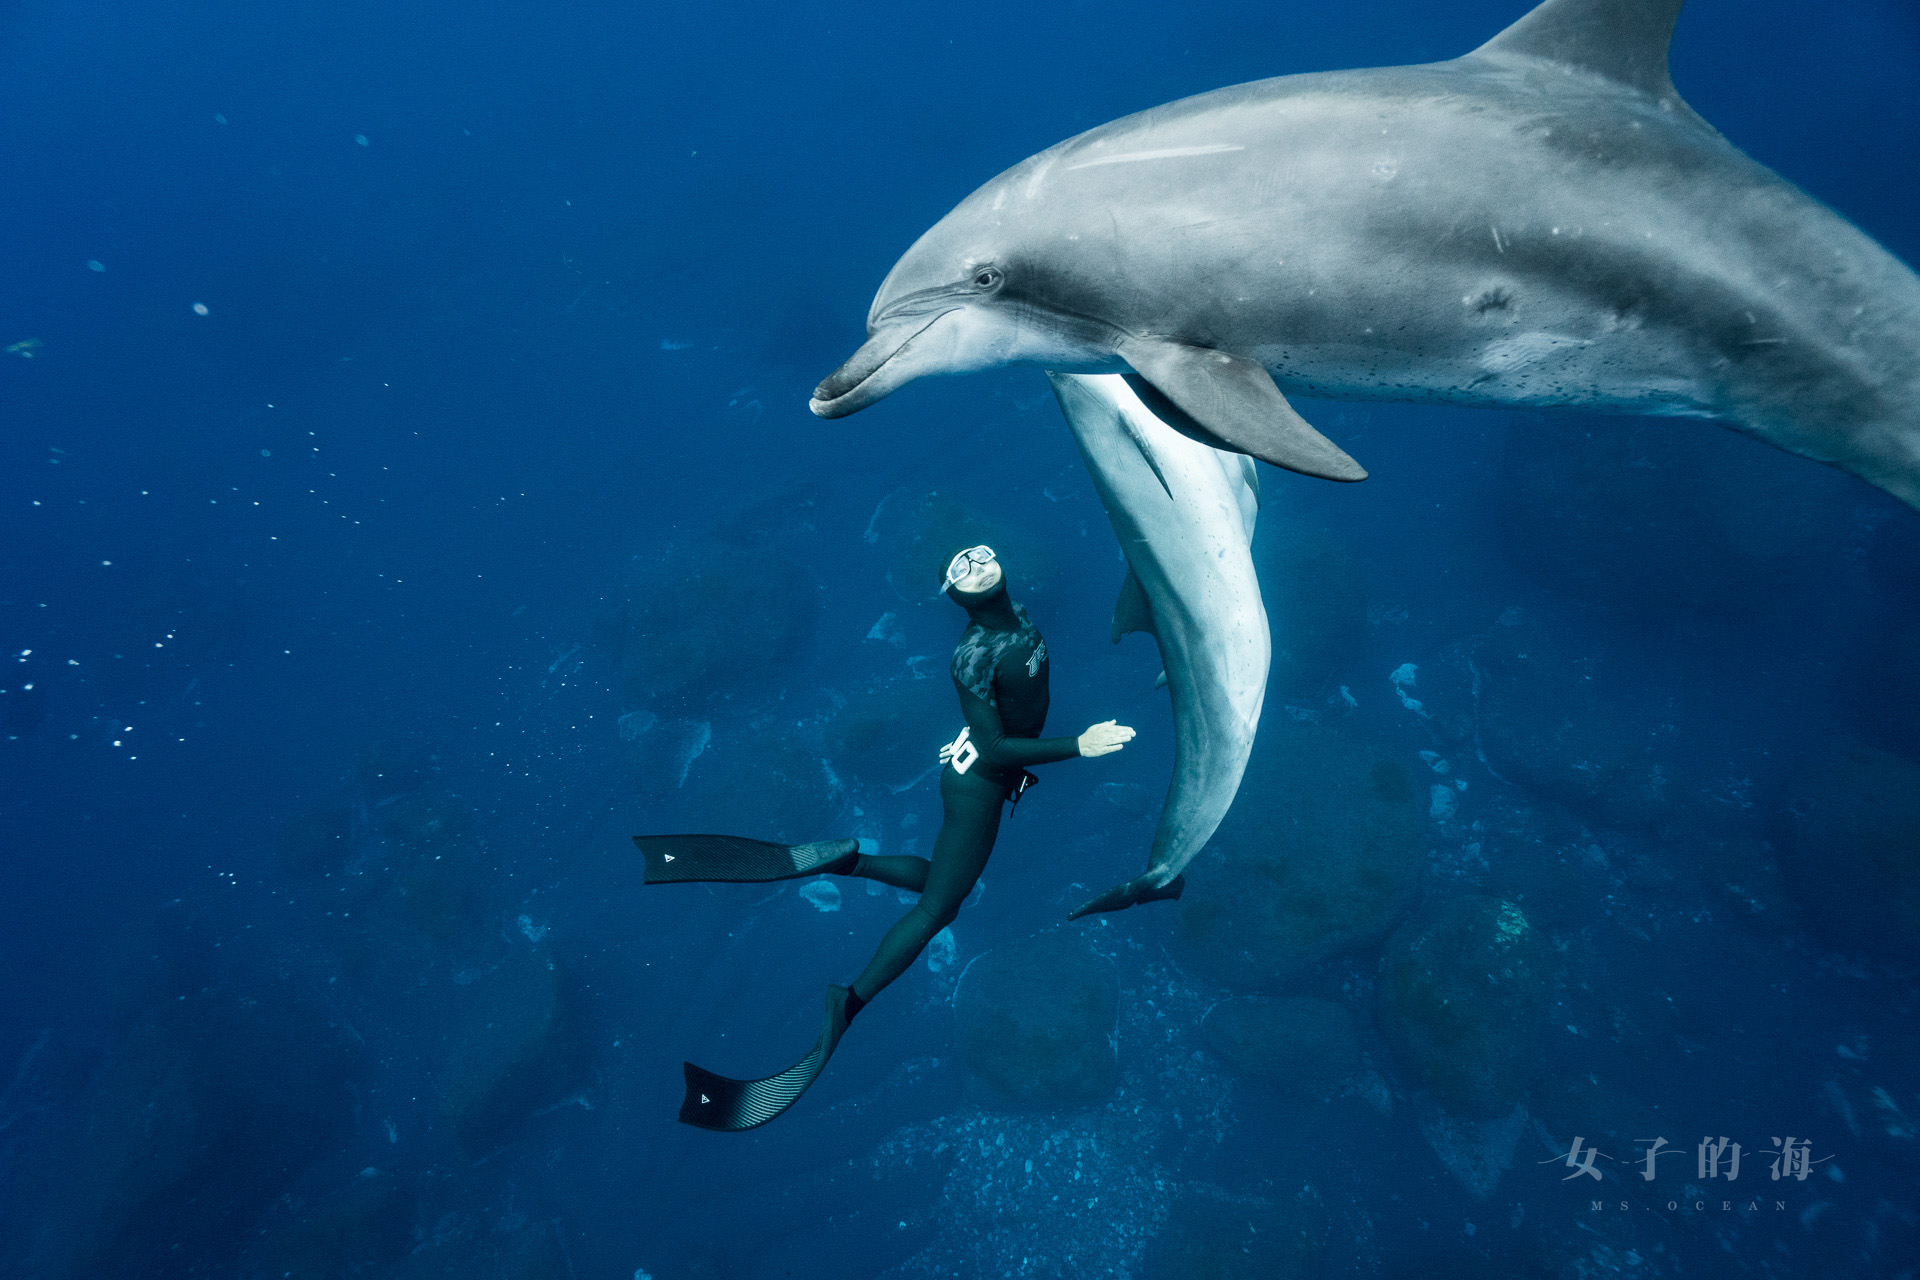dolphin: (801, 1, 1920, 522), (1040, 356, 1286, 929)
person: (617, 533, 1142, 1143)
